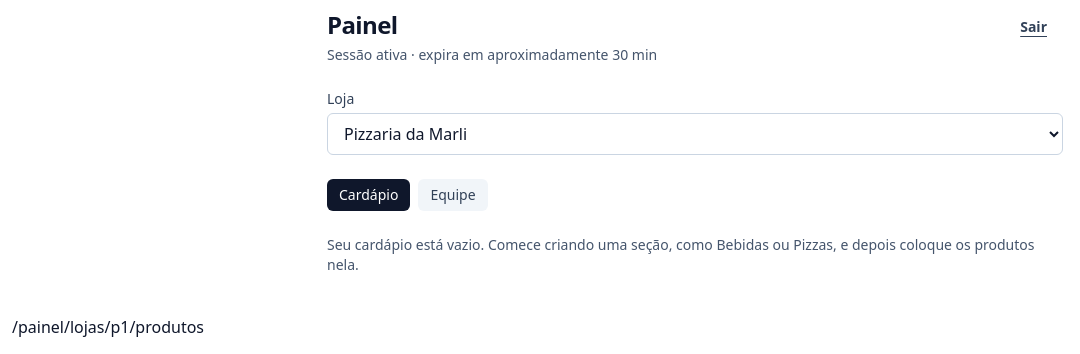
PainelPage › trocar para uma loja sem VER_PRODUTO fecha a seção do cardápio
Expected: the button "Cardápio" is shown, left=327, top=179, right=410, bottom=211
Select "Ana Pães" in the dropdown labelled "Loja" at (695, 134), box left=327, top=113, right=1063, bottom=155
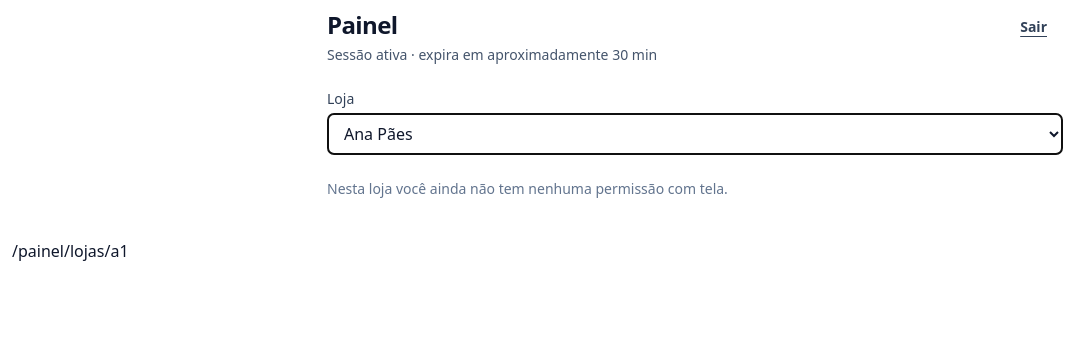
Result: the text with test id "onde-estou" reads "/painel/lojas/a1" at left=12, top=240, right=128, bottom=262
Result: the button "Cardápio" is gone
Result: the text "Nesta loja você ainda não tem nenhuma permissão com tela." is shown at left=327, top=179, right=728, bottom=198
